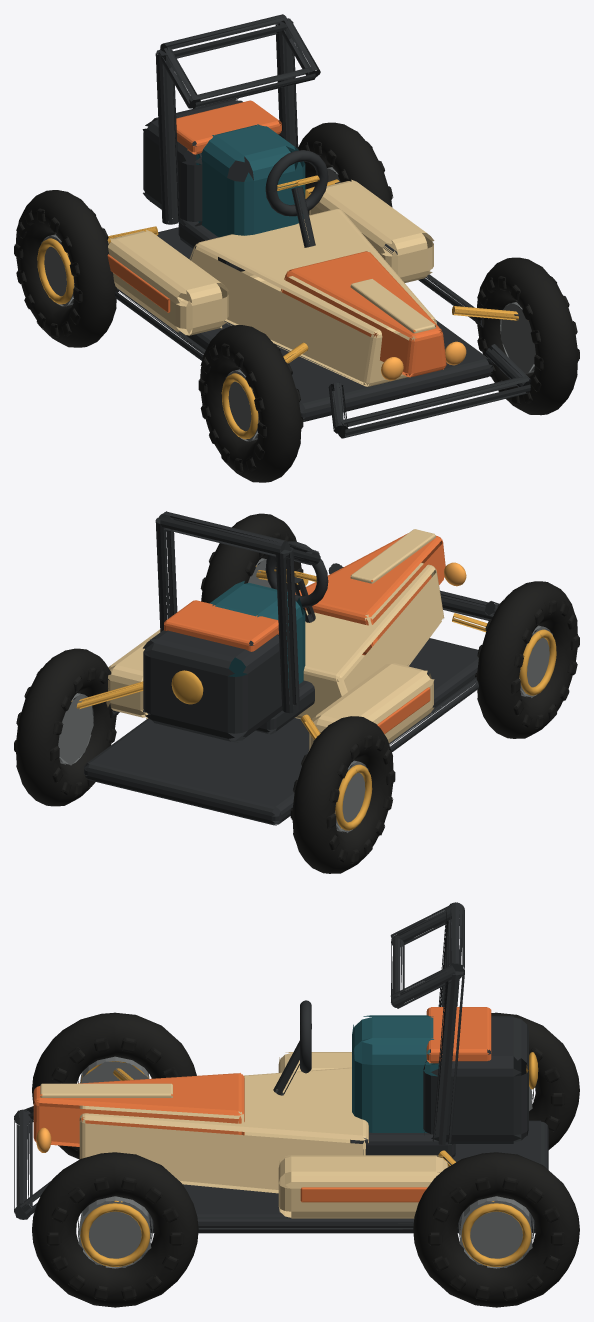
Rendered from KART-01_LOD1.glb.
3 renders of one model, top to bottom at view 1: azimuth 30°, elevation 25°; view 2: azimuth 150°, elevation 25°; view 3: azimuth 270°, elevation 25°, orthographic. The views are drawn at different scales.
Visible parts, largest first — view 1: KART01_body_main, KART01_L_F_tire, KART01_L_R_tire, KART01_R_F_tire, KART01_seat, KART01_body_nose, KART01_sidepod_L, KART01_floor_plate, KART01_sidepod_R, KART01_rear_engine, KART01_R_R_tire, KART01_front_bumper (+22 smaller); view 2: KART01_floor_plate, KART01_rear_engine, KART01_body_main, KART01_L_R_tire, KART01_L_F_tire, KART01_R_R_tire, KART01_body_nose, KART01_sidepod_L, KART01_engine_cover, KART01_R_F_tire, KART01_roll_post_-1, KART01_seat (+17 smaller); view 3: KART01_body_main, KART01_R_F_tire, KART01_R_R_tire, KART01_rear_engine, KART01_seat, KART01_sidepod_R, KART01_body_nose, KART01_L_F_tire, KART01_floor_plate, KART01_L_R_tire, KART01_R_R_hub, KART01_R_F_hub (+17 smaller).
Boxes of the visible parts, x1,y1,x2,y2 form: KART01_body_main: [178, 209, 436, 386]; KART01_L_F_tire: [200, 325, 301, 482]; KART01_L_R_tire: [16, 190, 116, 347]; KART01_R_F_tire: [477, 257, 578, 415]; KART01_seat: [196, 124, 305, 237]; KART01_body_nose: [280, 251, 446, 377]; KART01_sidepod_L: [108, 230, 228, 335]; KART01_floor_plate: [157, 227, 493, 421]; KART01_sidepod_R: [309, 179, 434, 282]; KART01_rear_engine: [142, 98, 286, 226]; KART01_R_R_tire: [298, 122, 392, 214]; KART01_front_bumper: [338, 376, 530, 438]; KART01_floor_plate: [84, 638, 478, 825]; KART01_rear_engine: [143, 630, 282, 742]; KART01_body_main: [295, 562, 444, 719]; KART01_L_R_tire: [292, 716, 393, 873]; KART01_L_F_tire: [476, 581, 577, 738]; KART01_R_R_tire: [15, 648, 116, 806]; KART01_body_nose: [295, 533, 445, 655]; KART01_sidepod_L: [309, 663, 434, 750]; KART01_engine_cover: [164, 600, 278, 651]; KART01_R_F_tire: [201, 513, 301, 603]; KART01_roll_post_-1: [275, 546, 299, 713]; KART01_seat: [210, 581, 305, 691]; KART01_body_main: [79, 1067, 368, 1193]; KART01_R_F_tire: [32, 1152, 198, 1307]; KART01_R_R_tire: [413, 1152, 579, 1307]; KART01_rear_engine: [423, 1016, 528, 1143]; KART01_seat: [352, 1015, 438, 1132]; KART01_sidepod_R: [278, 1155, 448, 1218]; KART01_body_nose: [33, 1073, 244, 1146]; KART01_L_F_tire: [32, 1012, 196, 1159]; KART01_floor_plate: [149, 1120, 548, 1233]; KART01_L_R_tire: [491, 1012, 579, 1149]; KART01_R_R_hub: [459, 1196, 533, 1268]; KART01_R_F_hub: [78, 1196, 152, 1268].
Bounding box in the file's own units: 2.23 × 1.96 × 3.32.
